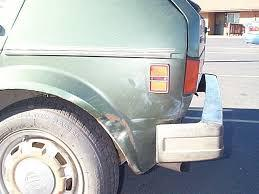rear-bumper-dent: (48, 50, 183, 162)
